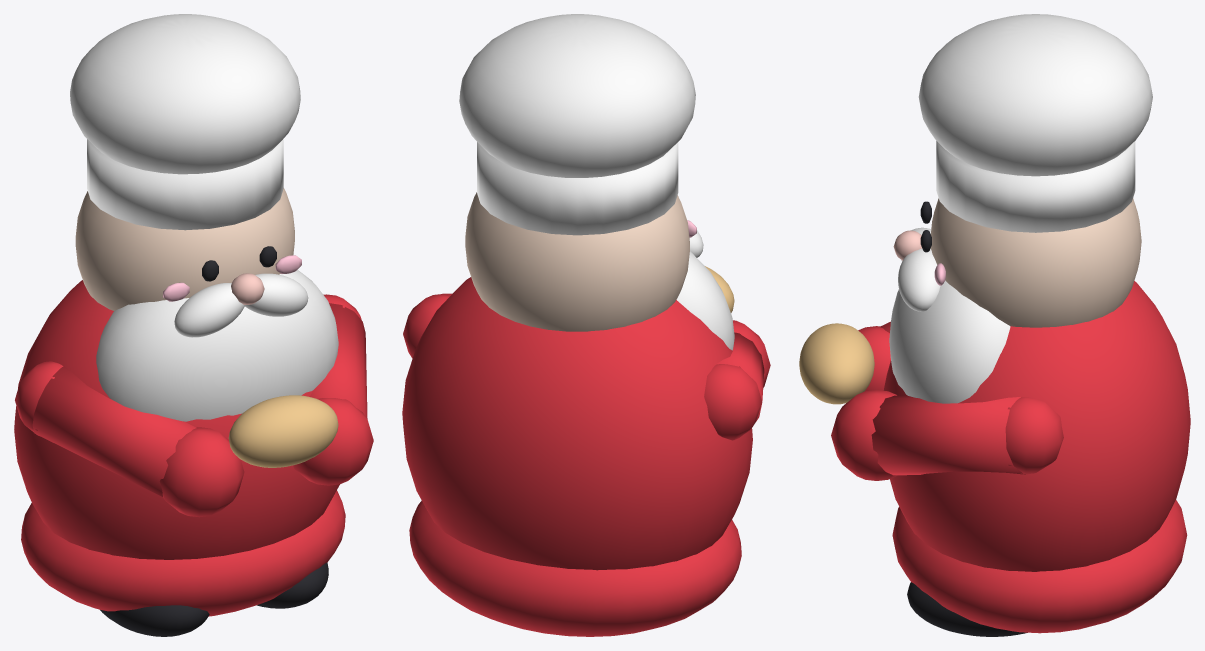
The model's file is baker.glb.
3 views of the same model, side by side, from view 1: azimuth 30°, elevation 25°; view 2: azimuth 150°, elevation 25°; view 3: azimuth 270°, elevation 25° (orthographic). The views are drawn at different scales.
Parts seen in each view (by area): view 1: baker_red, baker_white, baker_skin, baker_bread, baker_black, baker_nose, baker_pink; view 2: baker_red, baker_white, baker_skin; view 3: baker_red, baker_white, baker_skin, baker_bread, baker_black, baker_nose.
Boxes of the visible parts, x1,y1,x2,y2 form: baker_red: [14, 280, 373, 616]; baker_white: [70, 14, 338, 421]; baker_skin: [75, 188, 294, 310]; baker_bread: [228, 395, 338, 467]; baker_black: [100, 246, 328, 636]; baker_nose: [231, 273, 264, 304]; baker_pink: [163, 255, 301, 301]; baker_red: [402, 277, 770, 636]; baker_white: [459, 14, 734, 350]; baker_skin: [465, 192, 689, 331]; baker_red: [831, 281, 1190, 633]; baker_white: [889, 14, 1152, 403]; baker_skin: [930, 198, 1141, 327]; baker_bread: [799, 323, 874, 404]; baker_black: [907, 201, 1027, 636]; baker_nose: [893, 230, 922, 260].
Bounding box in the file's own units: 2 × 3.18 × 1.97.
